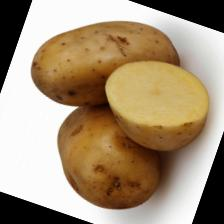potato: (21, 0, 190, 137), (38, 88, 180, 224), (88, 44, 222, 163)
